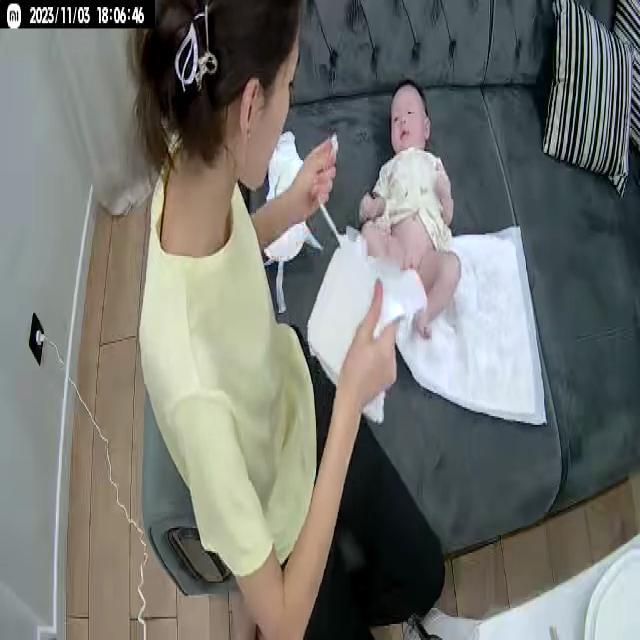baby: (356, 80, 463, 358)
